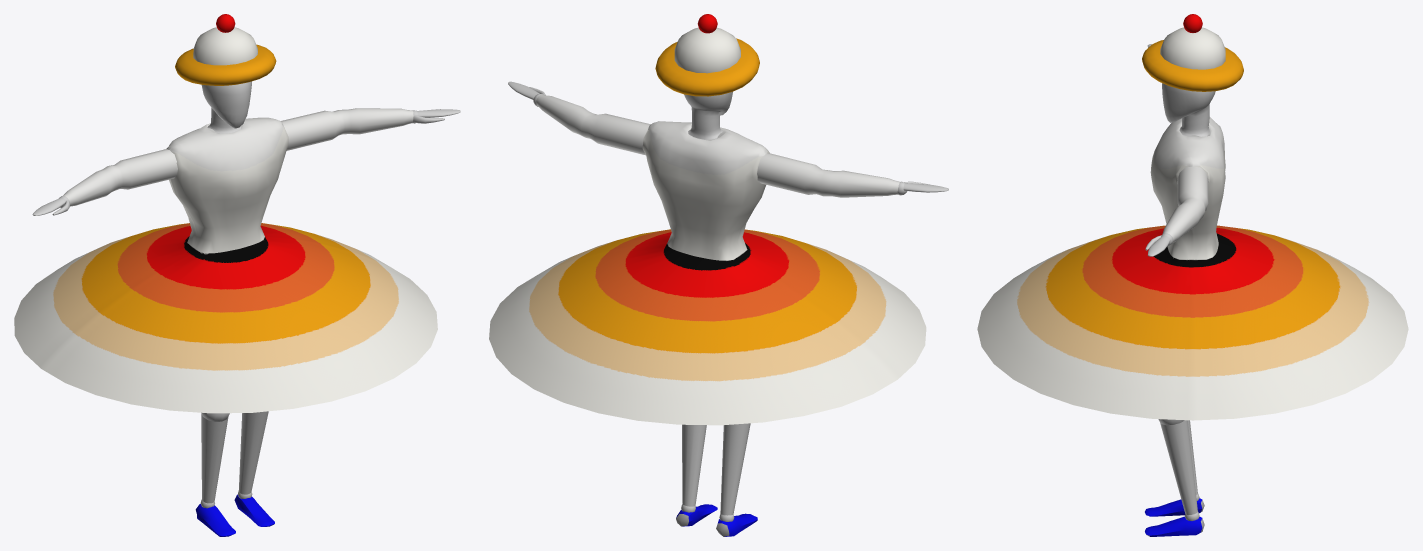
File: Background.gltf
The picture shows the model from 3 angles, left to right: view 1: azimuth 30°, elevation 25°; view 2: azimuth 150°, elevation 25°; view 3: azimuth 270°, elevation 25°; orthographic projection. The views are drawn at different scales.
Parts seen in each view (by area): view 1: CustomBG_1, BodyBG, Arm_1, Shoes; view 2: CustomBG_1, Arm_1, BodyBG, Shoes; view 3: CustomBG_1, BodyBG, Arm_1, Shoes.
Boxes of the visible parts, x1,y1,x2,y2 form: CustomBG_1: (14, 14, 437, 413); BodyBG: (32, 81, 460, 508); Arm_1: (63, 108, 413, 206); Shoes: (195, 494, 274, 536); CustomBG_1: (489, 14, 926, 425); Arm_1: (536, 94, 899, 197); BodyBG: (508, 81, 948, 521); Shoes: (676, 504, 757, 536); CustomBG_1: (977, 14, 1408, 420); BodyBG: (1145, 44, 1215, 520); Arm_1: (1162, 166, 1208, 242); Shoes: (1145, 498, 1204, 536).
Bounding box in the file's own units: 4.34 × 4.85 × 3.73.
Materials: 1 (1 with a texture image).
